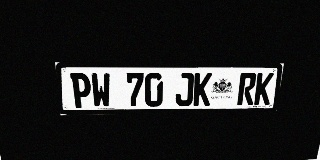0: (145, 73, 163, 107)
7: (125, 73, 144, 107)
J: (175, 73, 194, 106)
K: (253, 73, 274, 105), (193, 73, 212, 106)
P: (70, 73, 92, 108)
R: (237, 73, 257, 105)
W: (90, 73, 111, 108)
